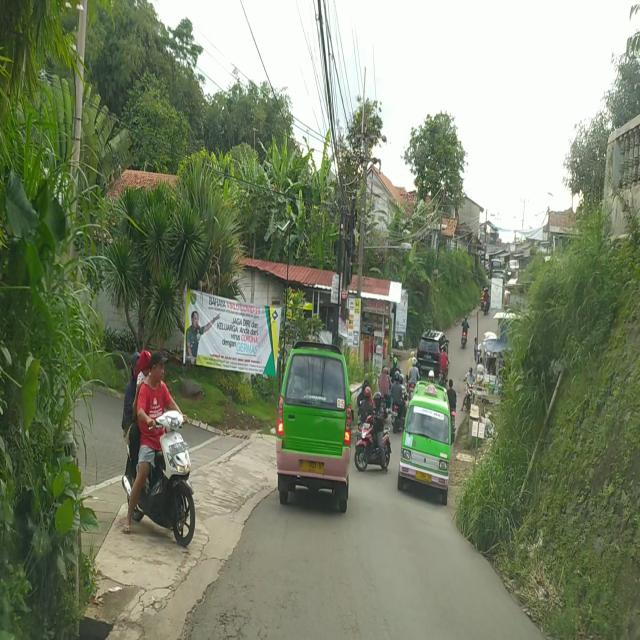Drain Hole: (216, 603, 277, 640)
